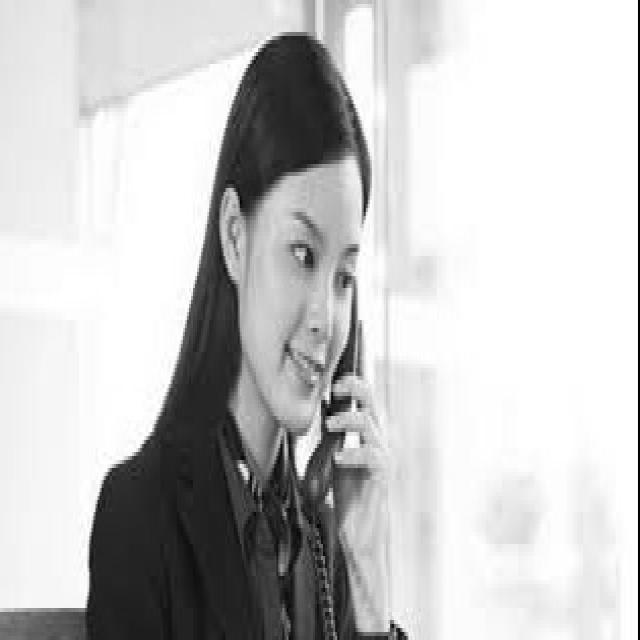phone: (325, 220, 415, 580)
